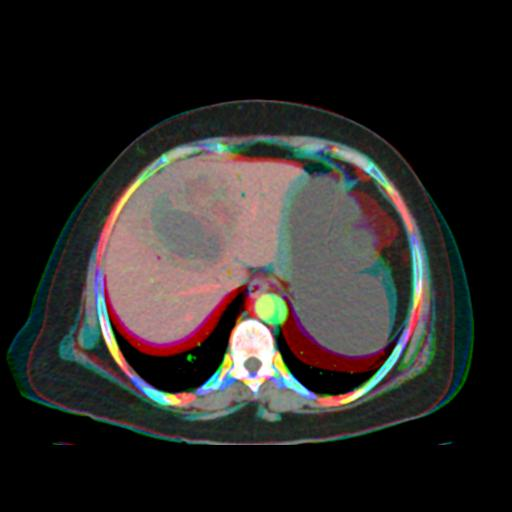Abscess: (152, 192, 235, 265)
